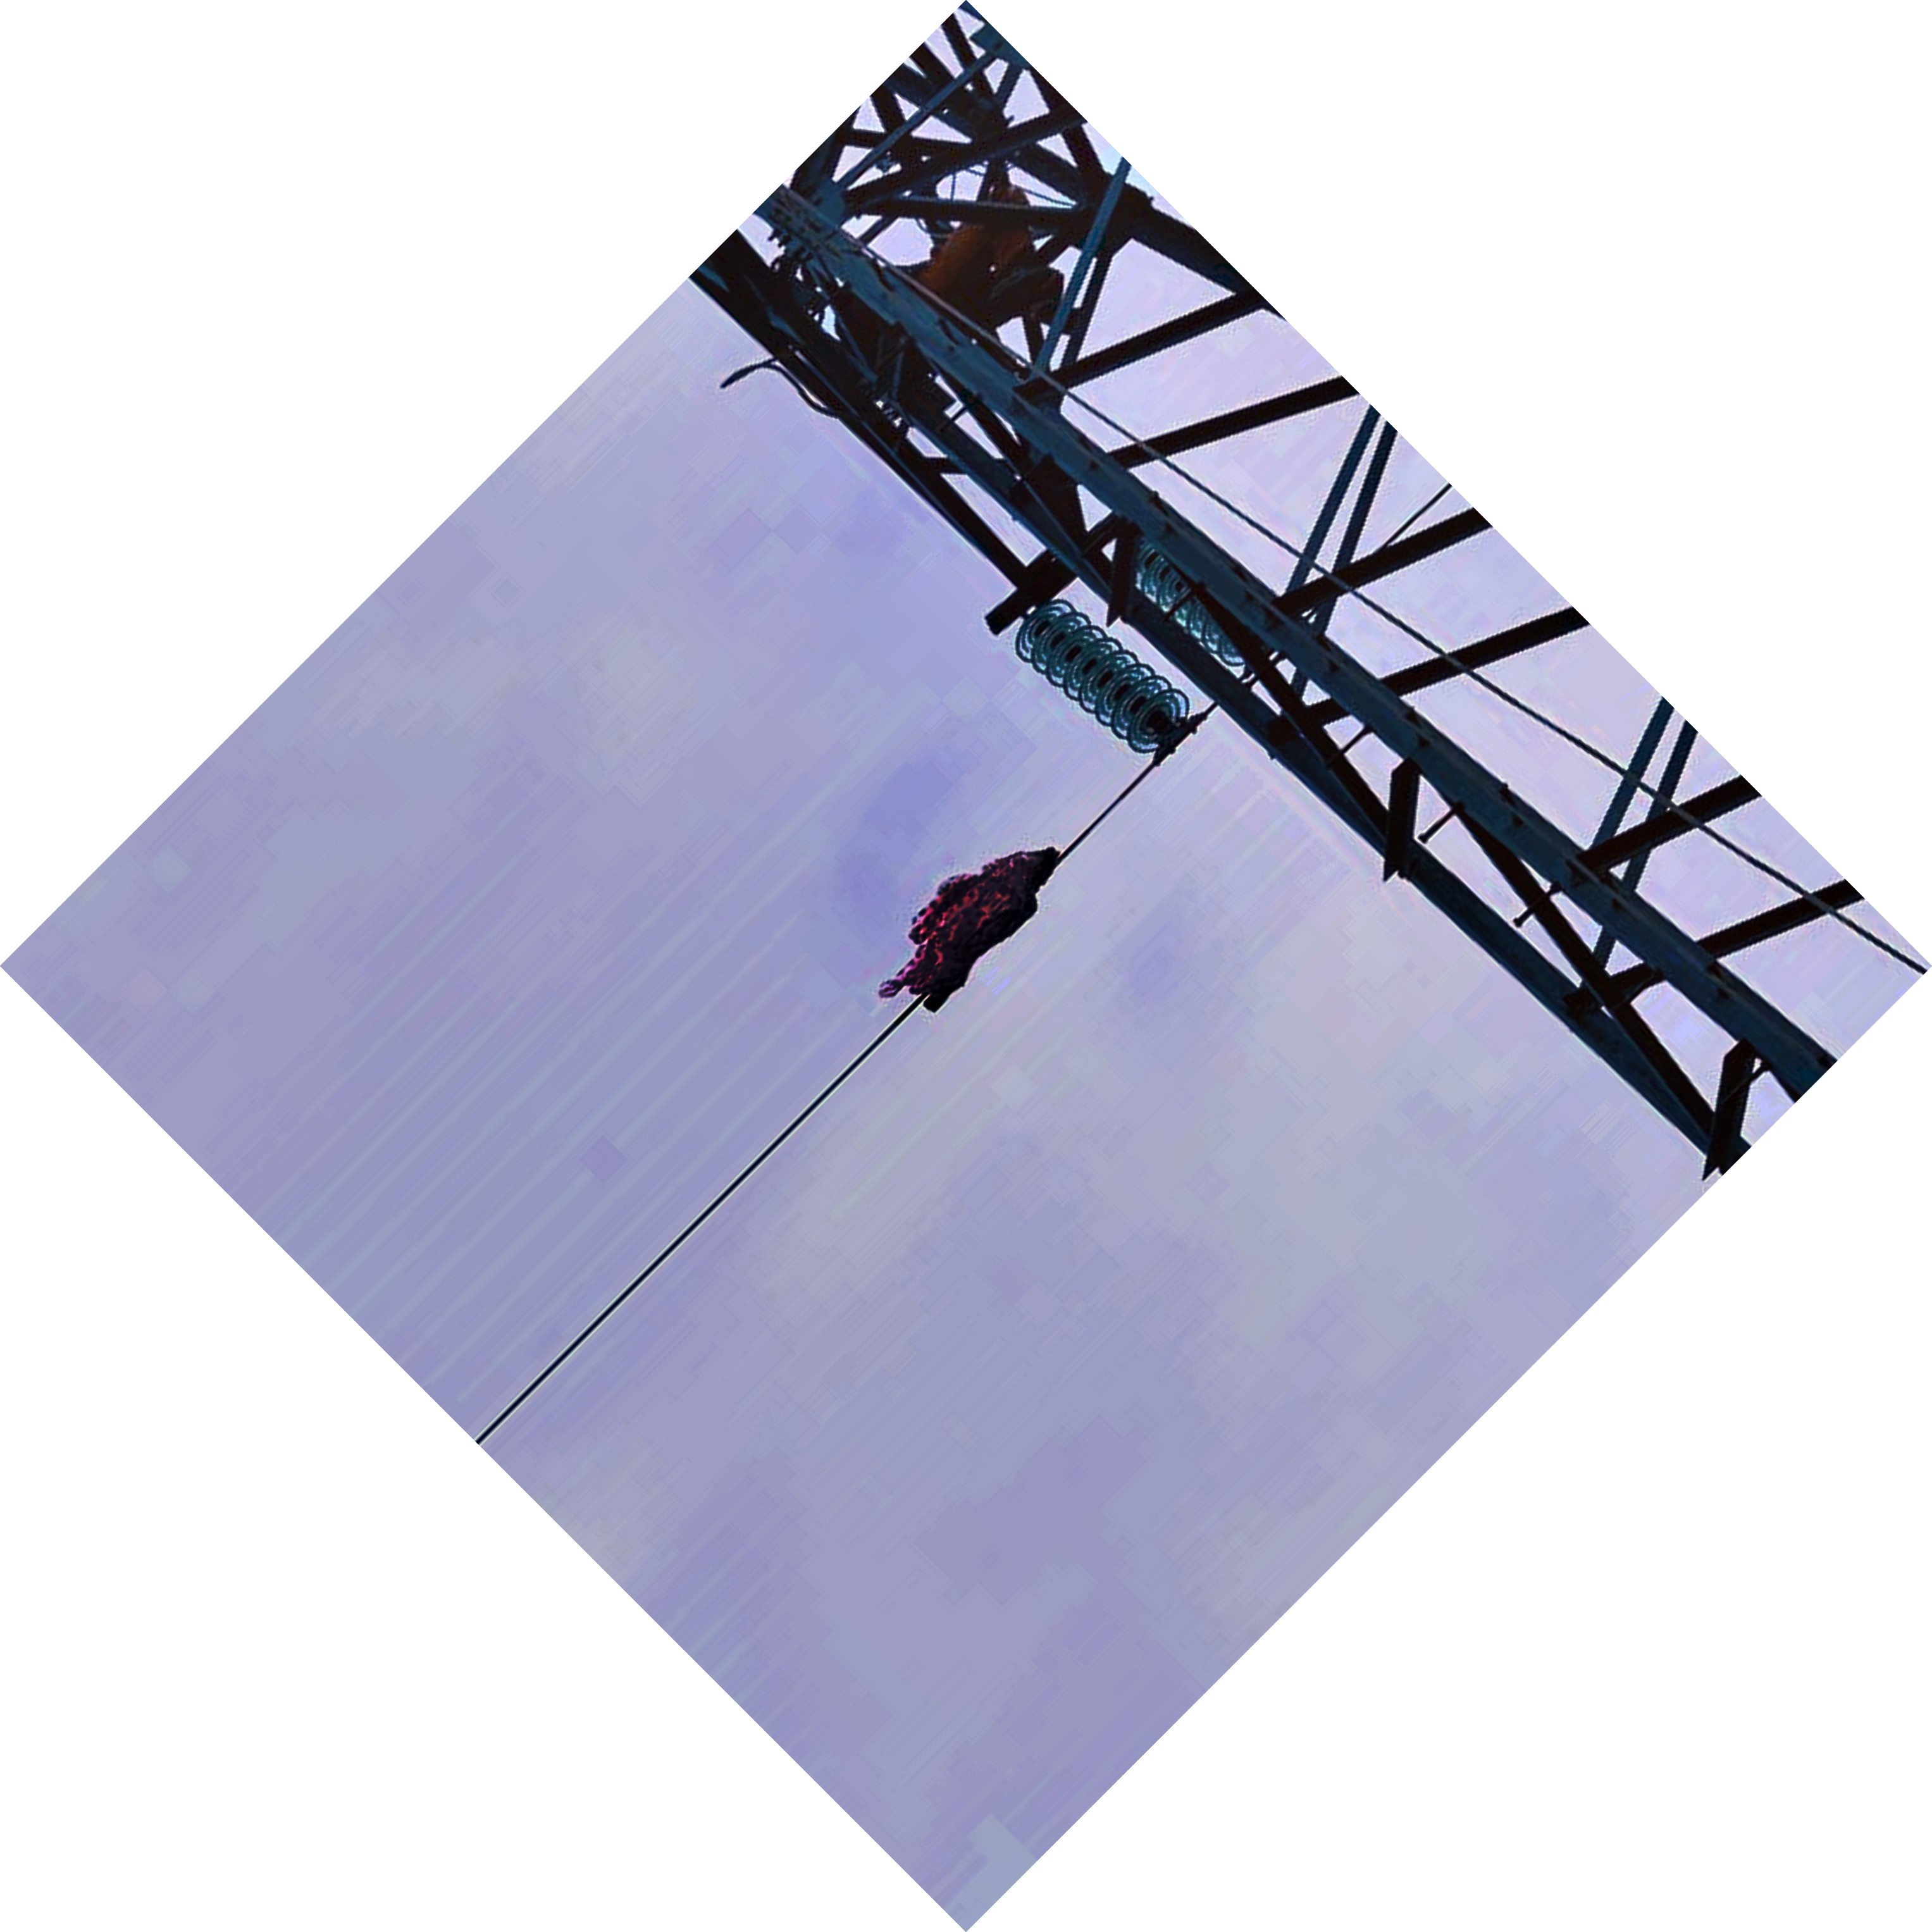wire foreign body: (862, 809, 1072, 1012)
